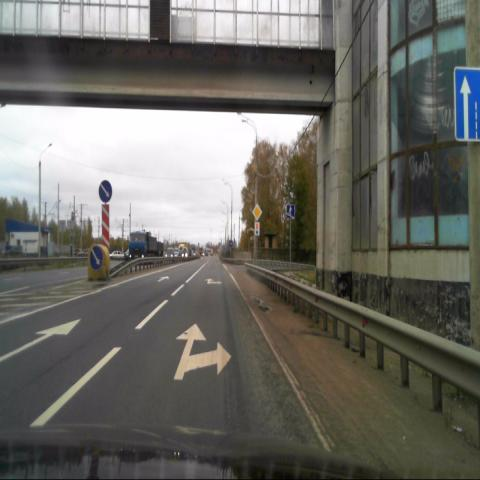4_2_1: (89, 245, 104, 271)
